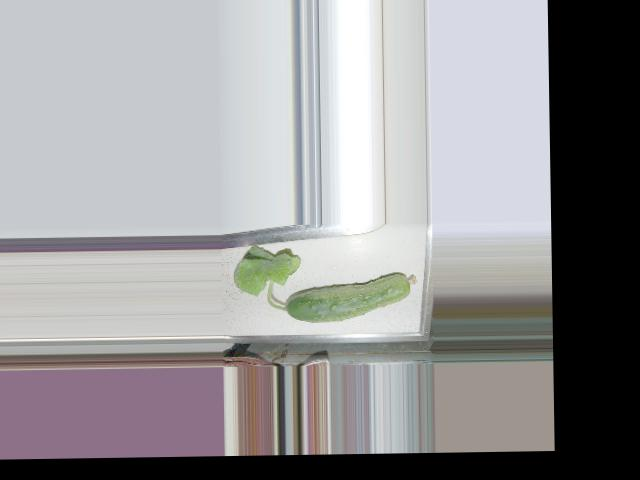cucumber: (283, 272, 417, 323)
